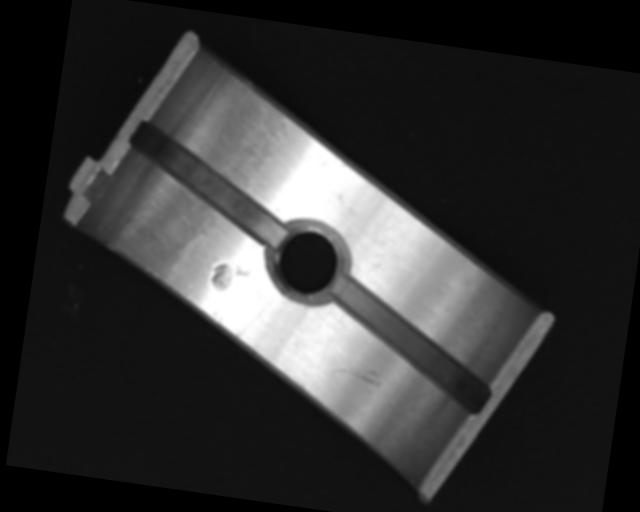bruise: (208, 261, 252, 296)
gap: (319, 274, 499, 415), (118, 121, 298, 248)
hole: (266, 216, 349, 309)
nick: (325, 360, 384, 388)
